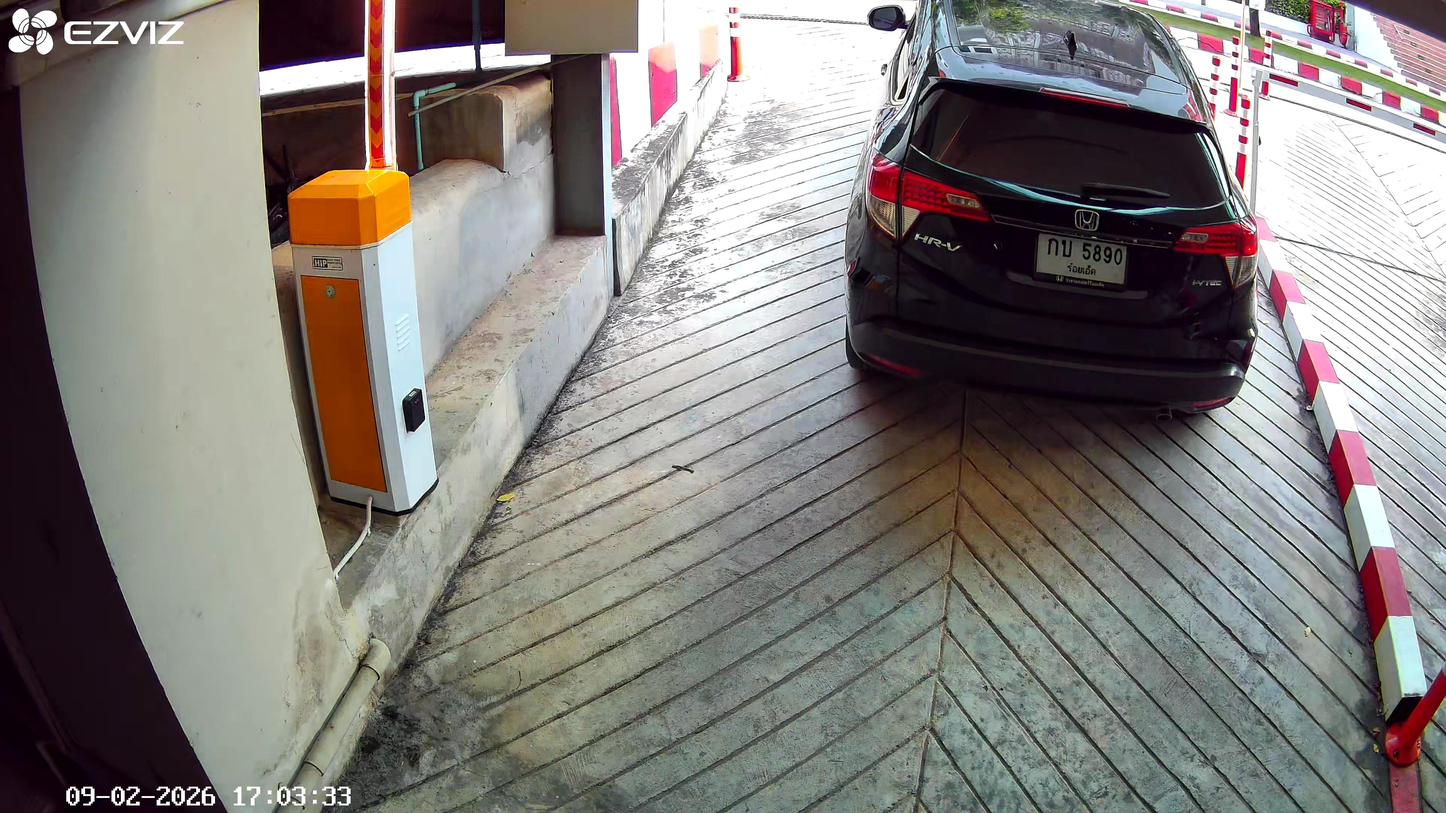car: (842, 6, 1260, 417)
license-plate: (1033, 227, 1130, 289)
